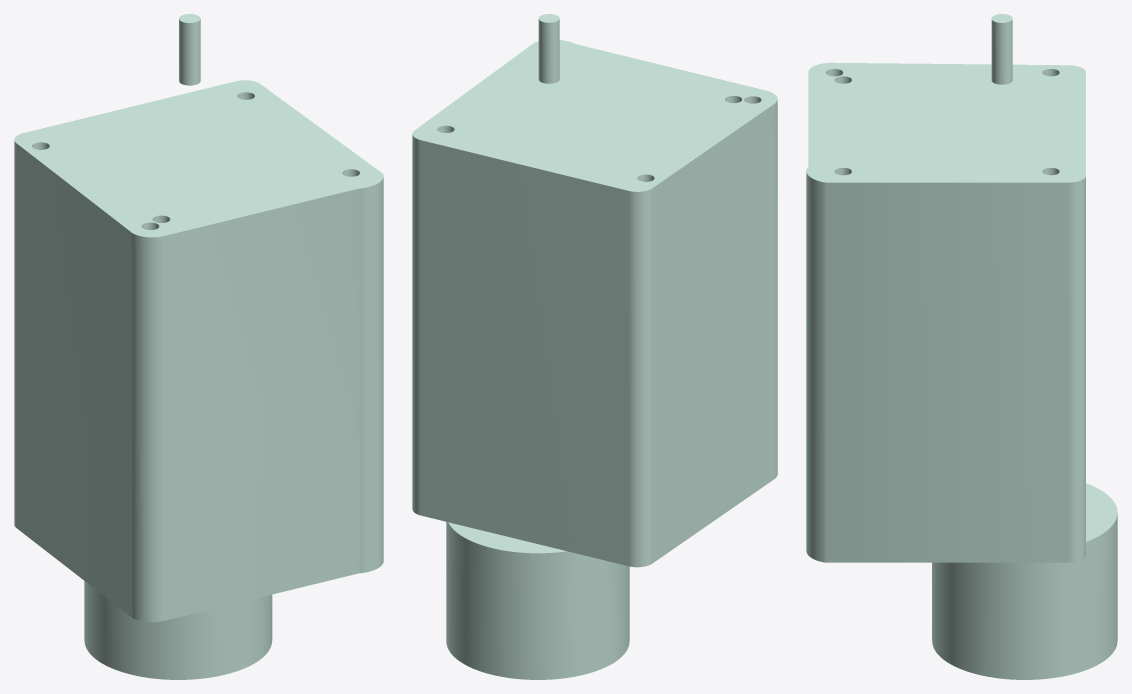
3 renders of one model, left to right at view 1: azimuth 30°, elevation 25°; view 2: azimuth 150°, elevation 25°; view 3: azimuth 270°, elevation 25°, orthographic. The views are drawn at different scales.
Parts seen in each view (by area): view 1: Renderer Node; view 2: Renderer Node; view 3: Renderer Node.
Boxes of the visible parts, <box> form: Renderer Node: <box>14,14,383,679</box>; Renderer Node: <box>412,14,777,679</box>; Renderer Node: <box>806,14,1117,679</box>.
Size of the model in its own units: 0.4228 by 1.02 by 0.4637.
